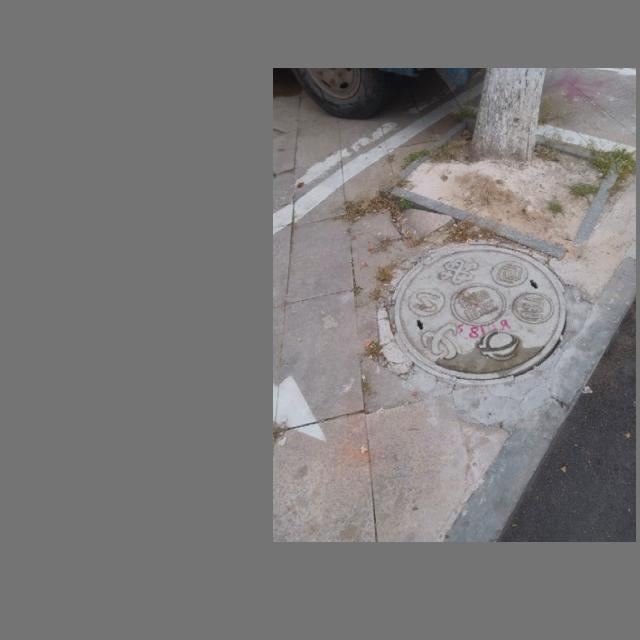good: (388, 246, 566, 382)
